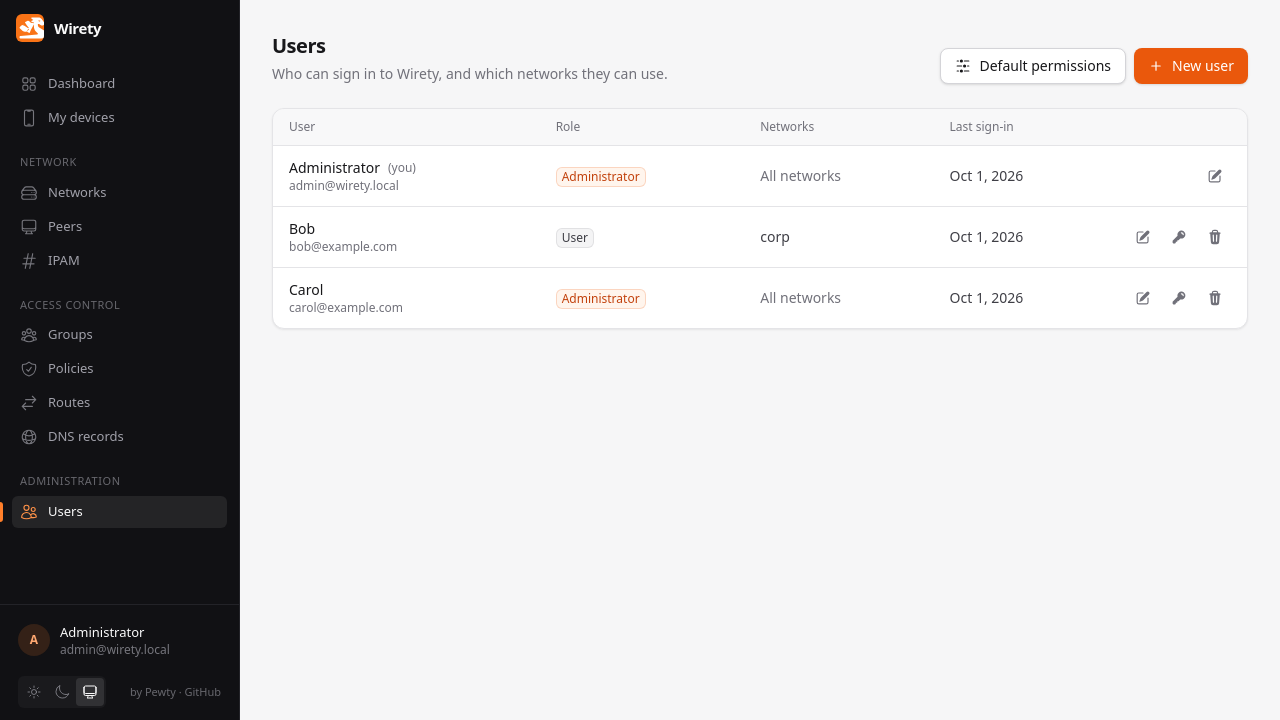
Scenario: Users › new user › checks the form before sending anything
This screenshot has width=1280, height=720.
Click the button "New user" at (1191, 66), box [1134,48,1248,84]
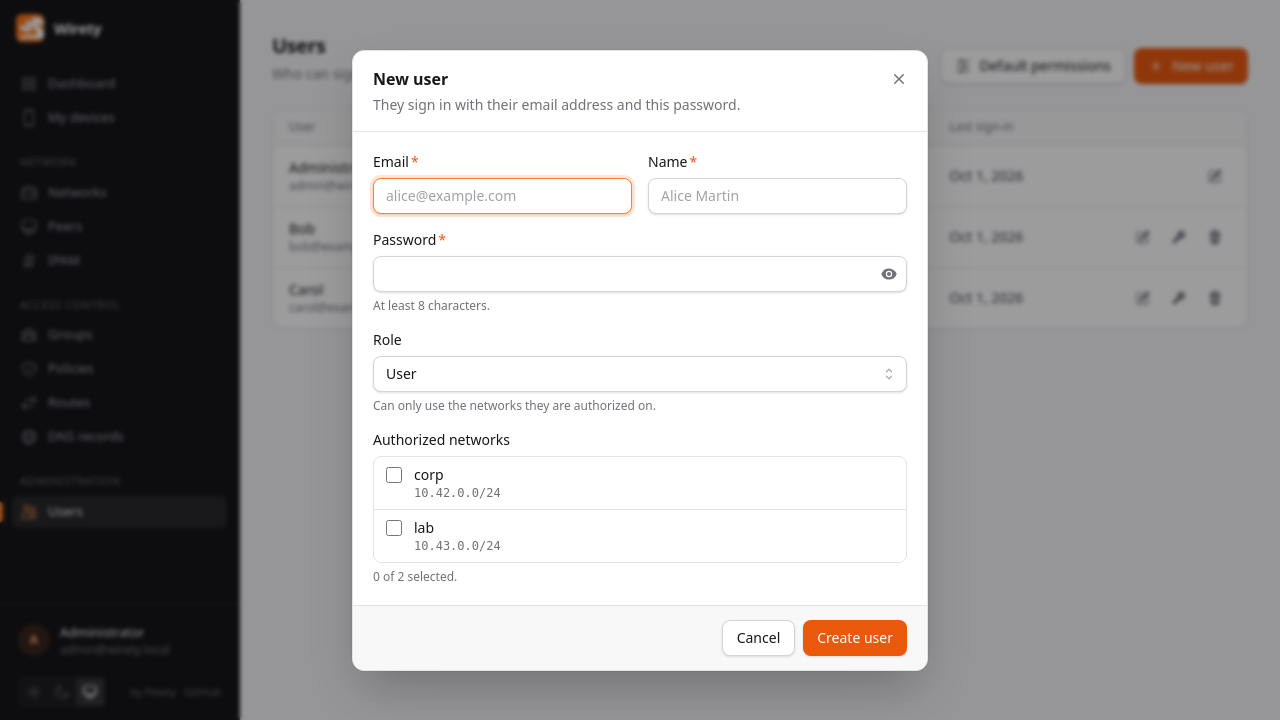
Click the button "Create user" at (855, 638), box [803,620,907,656]
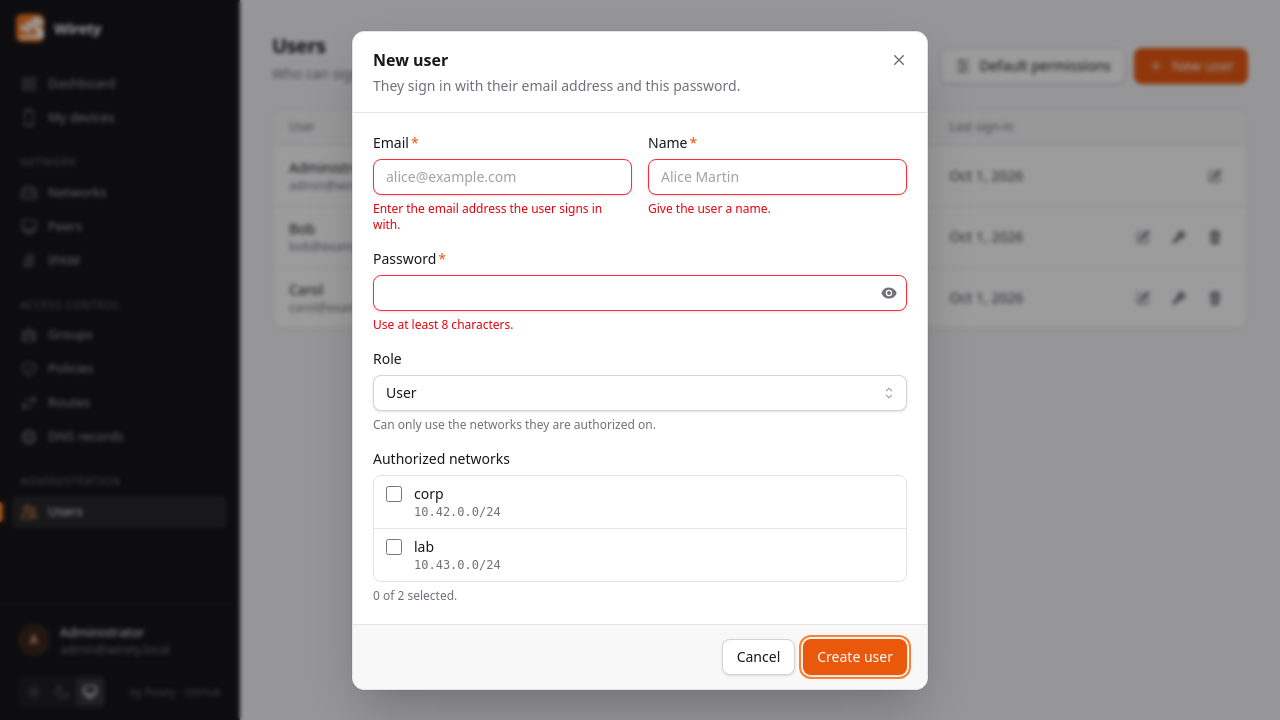
Check: the text "Enter the email address the user signs in with." is shown, box [373,200,632,232]
Check: the text "Give the user a name." is shown, box [648,200,771,216]
Check: the text "Use at least 8 characters." is shown, box [373,316,514,332]
Type "alice@" into the field labelled "Email*" at (502, 176), box [373,158,632,194]
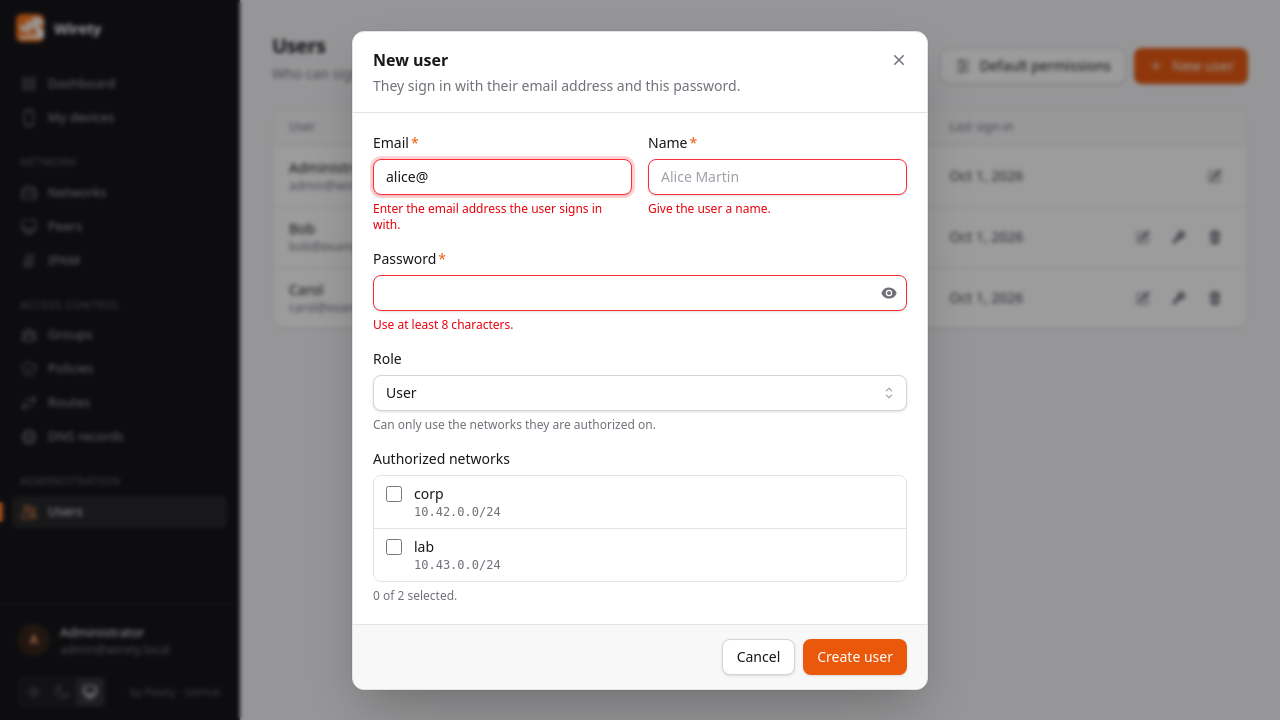
Type "Alice" into the field labelled "Name*" at (778, 176), box [648,158,907,194]
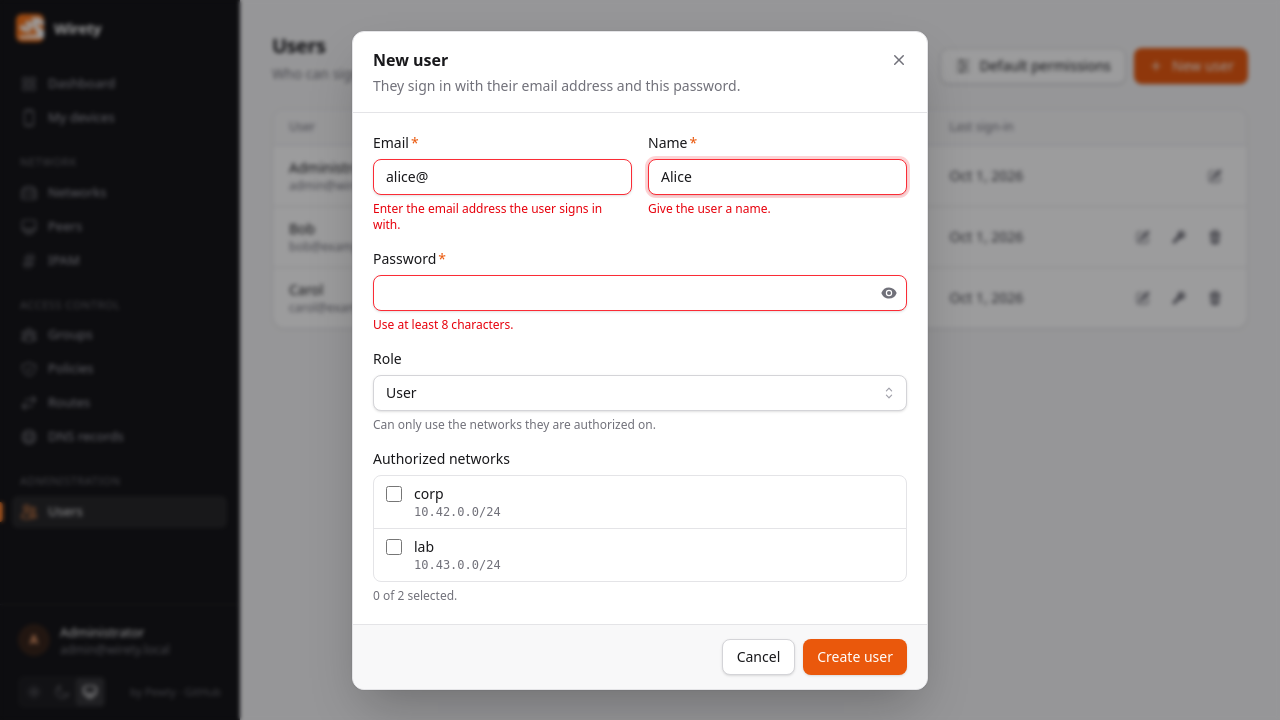
Type "short" into the password field labelled "Password*" at (640, 292), box [373,274,907,310]
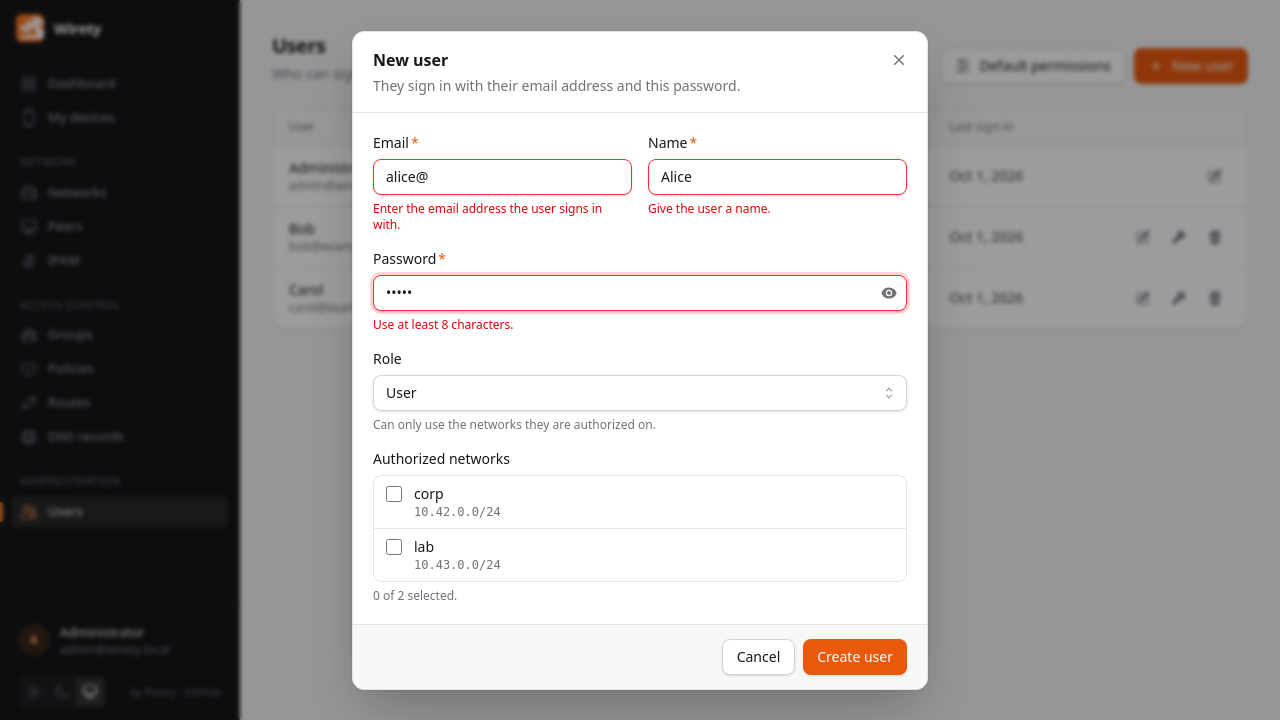
Click the button "Create user" at (855, 656), box [803,638,907,674]
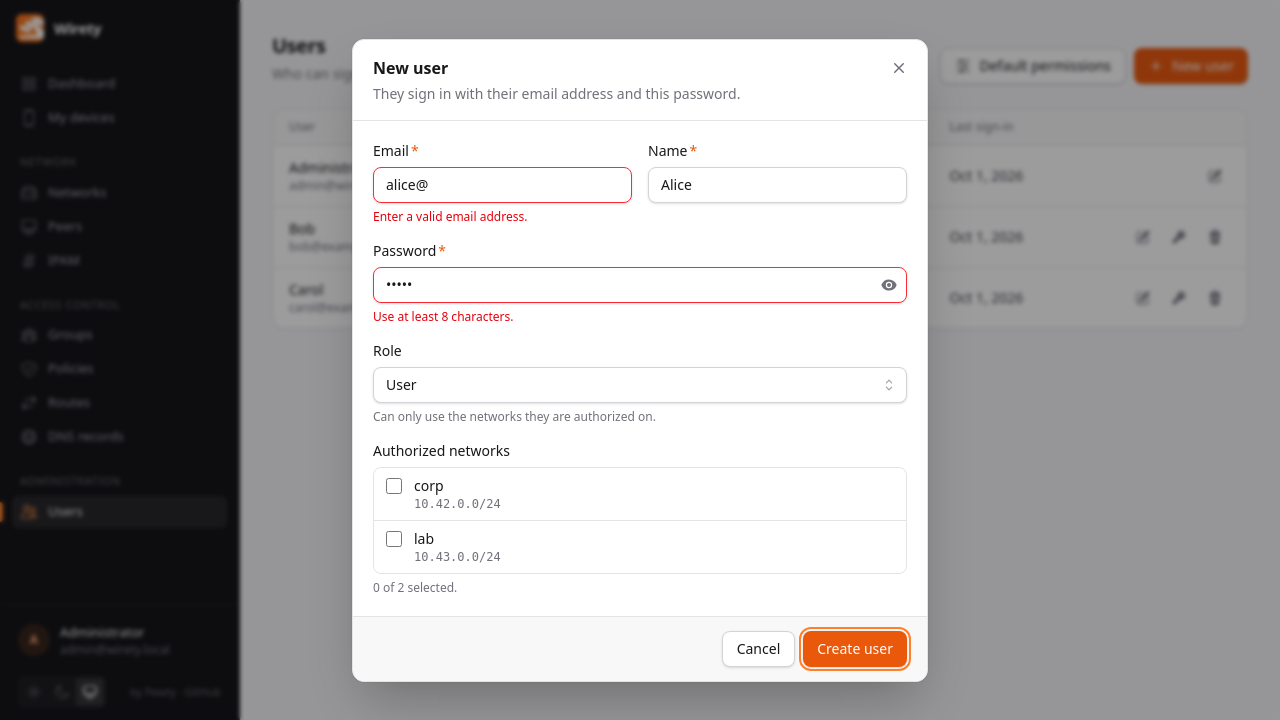
Check: the text "Enter a valid email address." is shown, box [373,208,527,224]
Check: the text "Give the user a name." is gone
